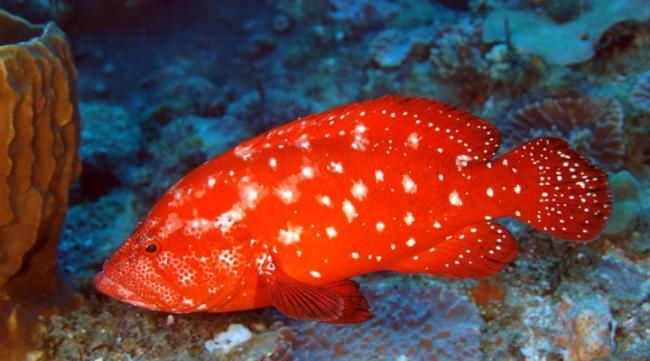fish: (96, 94, 613, 325)
